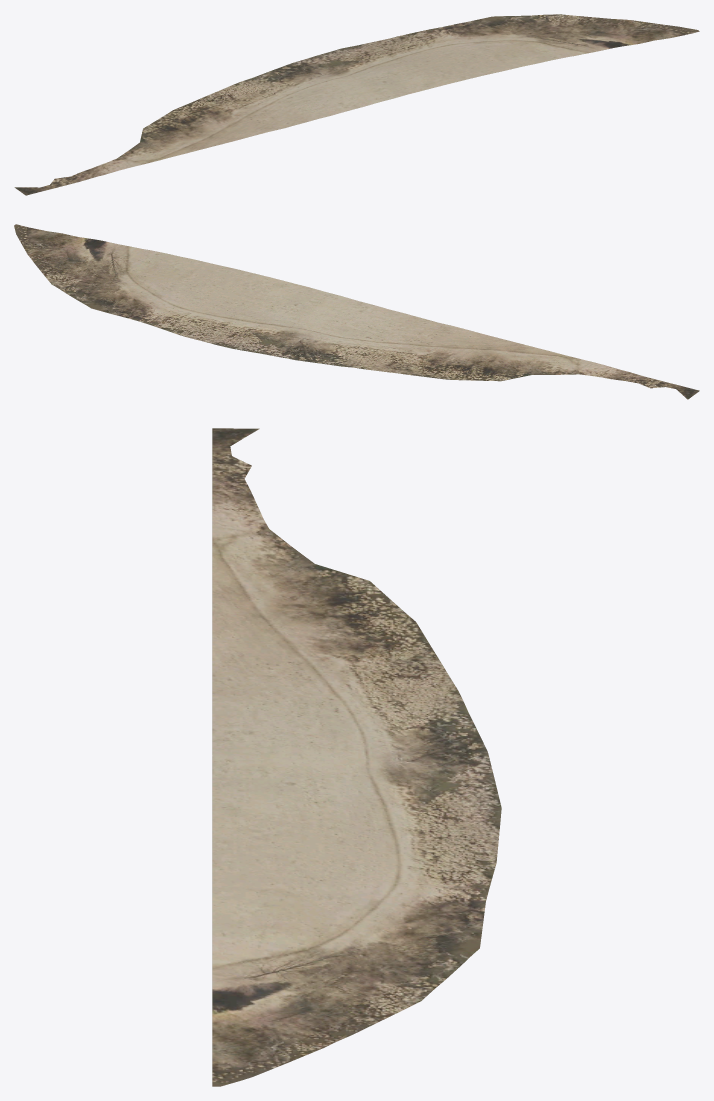
File: CM_Terrain_24489844_6819180.fbx
3 views of the same model, one above another, from view 1: azimuth 30°, elevation 25°; view 2: azimuth 150°, elevation 25°; view 3: azimuth 270°, elevation 25° (orthographic). The views are drawn at different scales.
Parts seen in each view (by area): view 1: CM_Terrain_24489844_6819180_LOD0; view 2: CM_Terrain_24489844_6819180_LOD0; view 3: CM_Terrain_24489844_6819180_LOD0.
Part boxes in pixels (x1=…): CM_Terrain_24489844_6819180_LOD0: x1=14, y1=14, x2=699, y2=195; CM_Terrain_24489844_6819180_LOD0: x1=14, y1=224, x2=699, y2=399; CM_Terrain_24489844_6819180_LOD0: x1=212, y1=428, x2=501, y2=1086.
Size of what is drawn, in the model's own units: 205 by 2.79 by 38.07.
